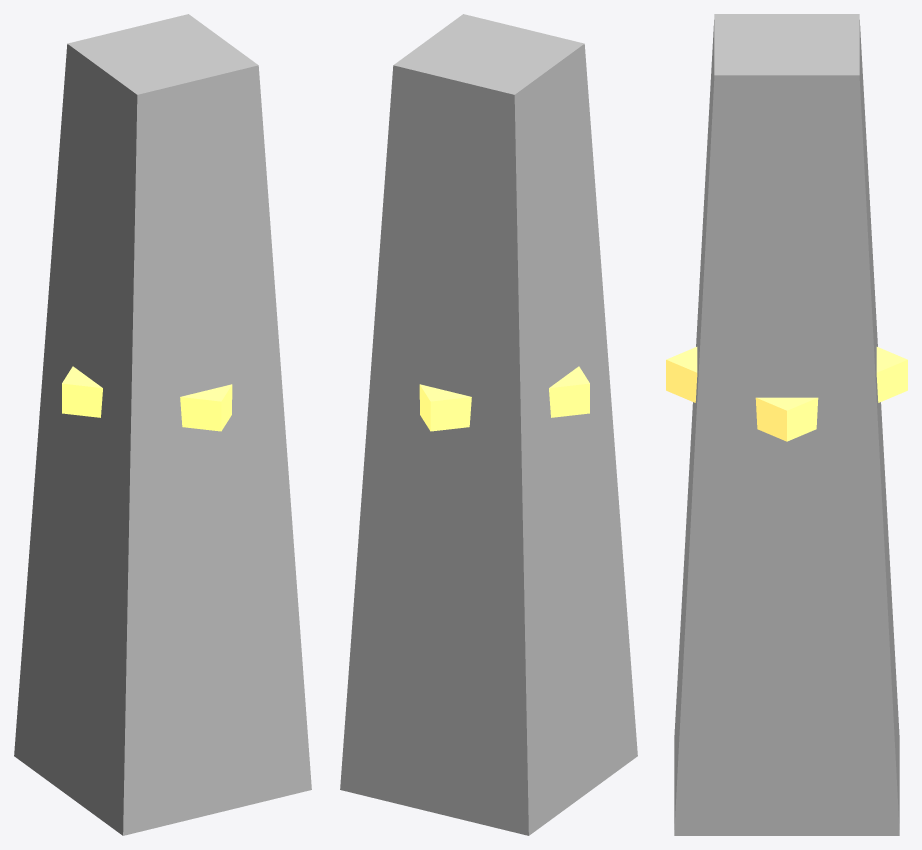
Rendered from prop_ash_monolith.glb.
3 renders of one model, left to right at view 1: azimuth 30°, elevation 25°; view 2: azimuth 150°, elevation 25°; view 3: azimuth 270°, elevation 25°, orthographic. The views are drawn at different scales.
Visible parts, largest first — view 1: prop_ash_monolith; view 2: prop_ash_monolith; view 3: prop_ash_monolith.
Part boxes in pixels (box(x1,y1,x2,y2)): prop_ash_monolith: box(14, 14, 311, 835); prop_ash_monolith: box(340, 14, 637, 835); prop_ash_monolith: box(666, 14, 907, 835).
Size of the model in its own units: 1.06 by 3.6 by 1.06.
